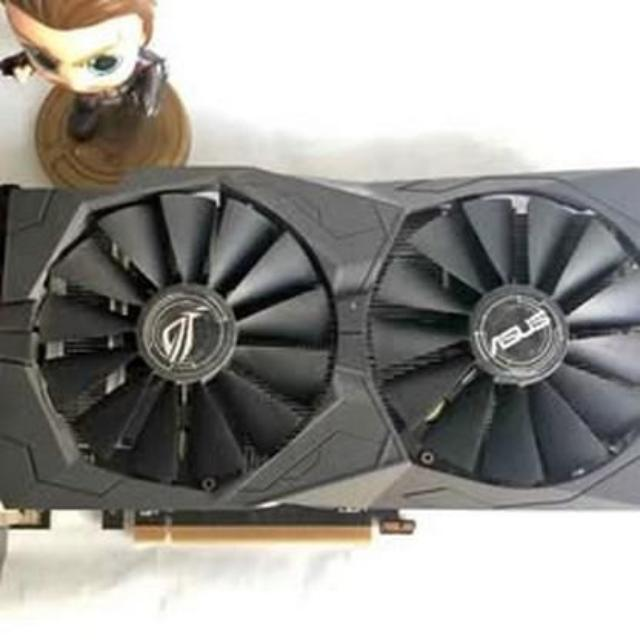GPU: (0, 170, 640, 544)
